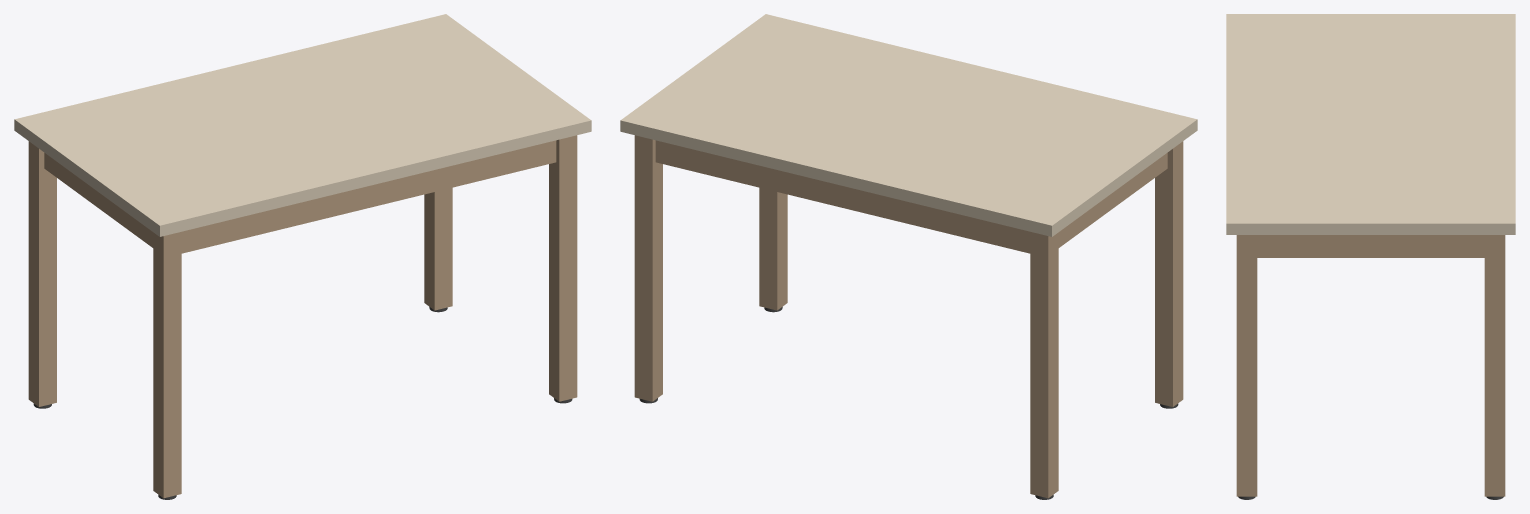
File: assembly.glb
3 views of the same model, side by side, from view 1: azimuth 30°, elevation 25°; view 2: azimuth 150°, elevation 25°; view 3: azimuth 270°, elevation 25° (orthographic).
Parts seen in each view (by area): view 1: tabletop, apron_front, leg_front_right, leg_front_left, leg_rear_right, leg_rear_left, apron_right; view 2: tabletop, apron_rear, leg_rear_right, leg_rear_left, leg_front_right, leg_front_left, apron_right; view 3: tabletop, leg_front_left, leg_rear_left, apron_left.
Boxes of the visible parts, box(x1,y1,x2,y2) form: tabletop: box(14, 14, 591, 236); apron_front: box(181, 140, 556, 253); leg_front_right: box(153, 232, 181, 498); leg_front_left: box(549, 135, 577, 401); leg_rear_right: box(28, 141, 56, 406); leg_rear_left: box(424, 187, 452, 310); apron_right: box(44, 153, 153, 247); tabletop: box(620, 14, 1197, 236); apron_rear: box(655, 140, 1030, 253); leg_rear_right: box(1030, 232, 1058, 498); leg_rear_left: box(634, 135, 662, 401); leg_front_right: box(1155, 141, 1183, 406); leg_front_left: box(759, 187, 787, 310); apron_right: box(1058, 153, 1167, 247); tabletop: box(1226, 14, 1515, 234); leg_front_left: box(1236, 235, 1257, 496); leg_rear_left: box(1484, 235, 1505, 496); apron_left: box(1257, 235, 1484, 257).
Size of the model in its own units: 1.2 by 0.75 by 0.7.
